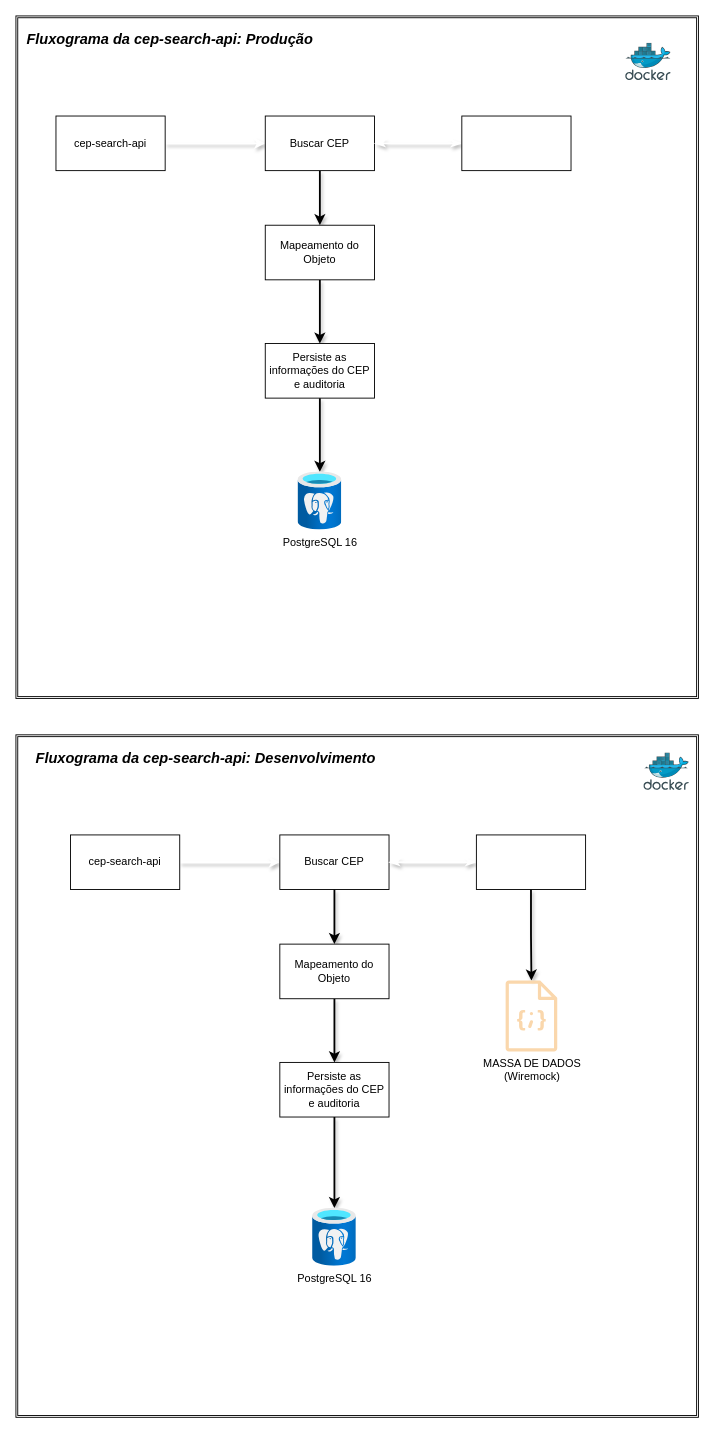
This 714x1433 diagram has some shape labels left out. The shapes that lost their labels are listed below. From the top down, each one's centre as x and y in pixels, then its label:
At point (516, 143): "viacep-api".
At point (530, 862): "Wiremock".
